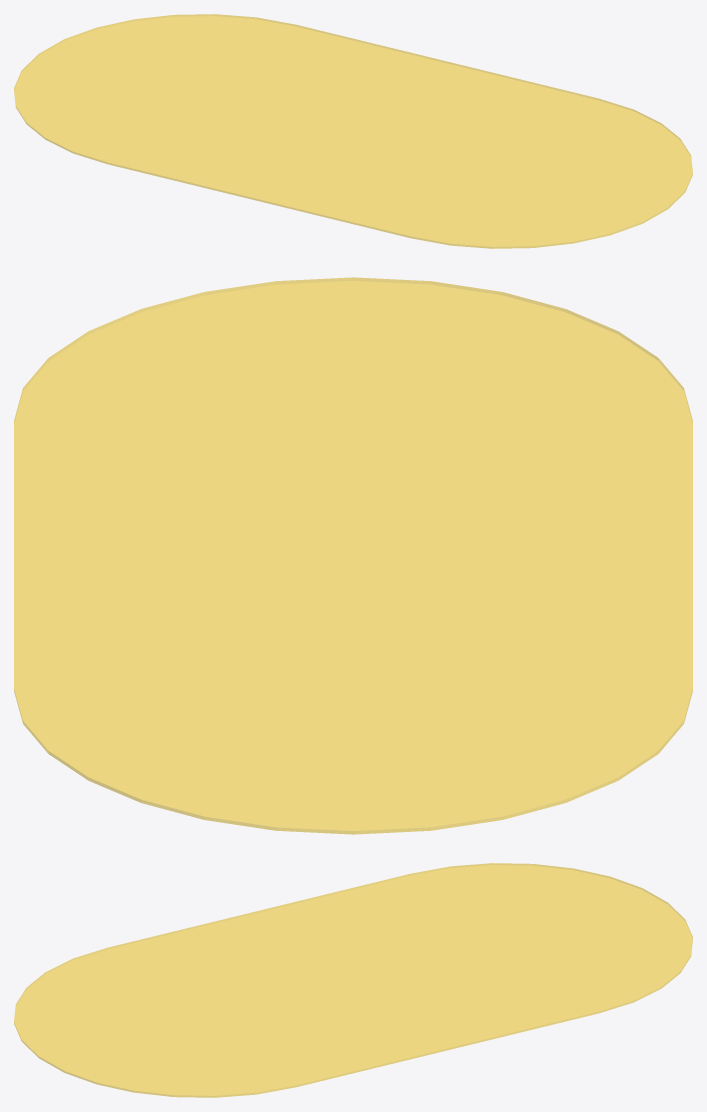
File: 1内水平面.obj
3 views of the same model, one above another, from view 1: azimuth 30°, elevation 25°; view 2: azimuth 150°, elevation 25°; view 3: azimuth 270°, elevation 25° (orthographic). The views are drawn at different scales.
Parts seen in each view (by area): view 1: _________; view 2: _________; view 3: _________.
Part boxes in pixels (left/top/right/bottom): _________: left=14, top=14, right=692, bottom=248; _________: left=14, top=277, right=692, bottom=834; _________: left=14, top=863, right=692, bottom=1097.
Size of the model in its own units: 1170063 by 4500 by 1442314.
